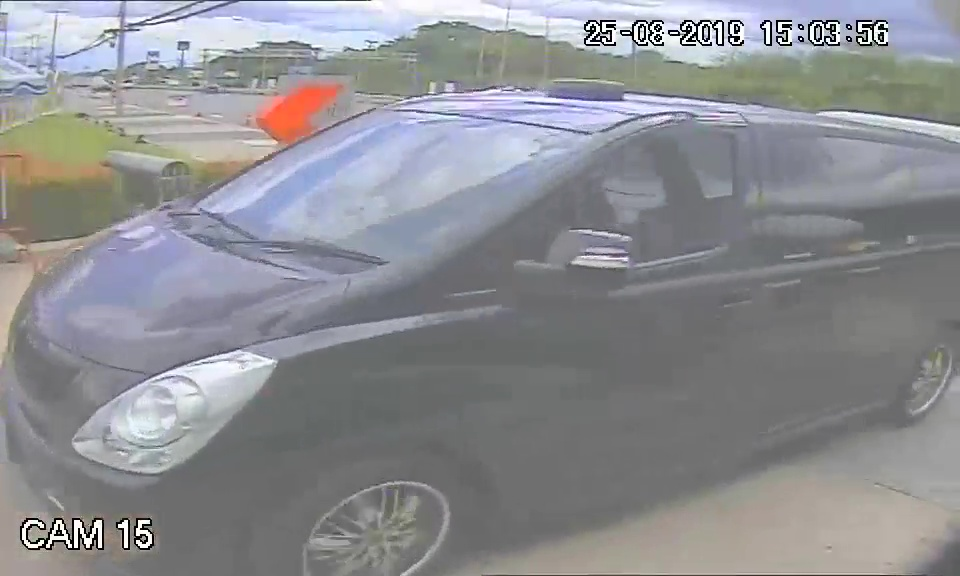van: (19, 78, 960, 545)
